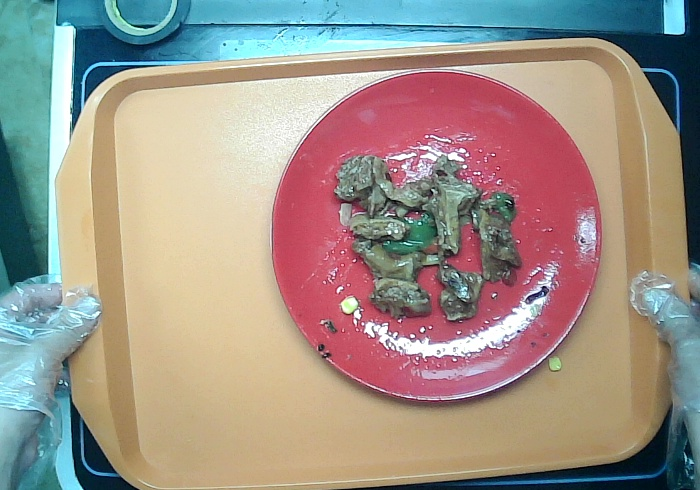HZYJPL-Hong_Se_Yuan_Pan: (261, 64, 609, 409)
